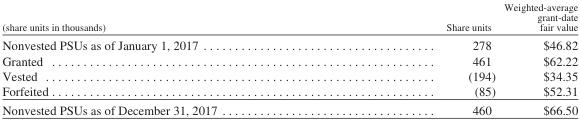table: (1, 1, 577, 116)
table column: (1, 1, 331, 116), (331, 1, 499, 116), (499, 1, 577, 116)
table column header: (1, 1, 577, 35)
table row: (1, 1, 577, 35), (1, 35, 577, 52), (1, 83, 577, 100), (1, 67, 577, 83), (1, 100, 577, 116), (1, 52, 577, 67)
